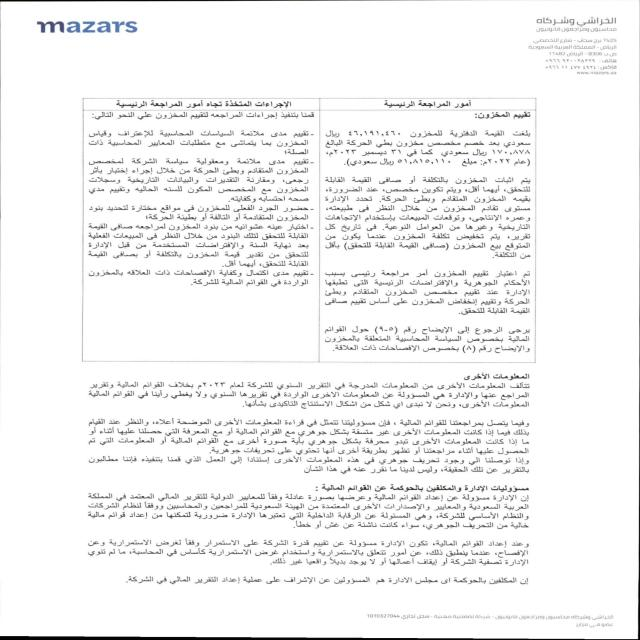auditor_report: (379, 99, 474, 109)
